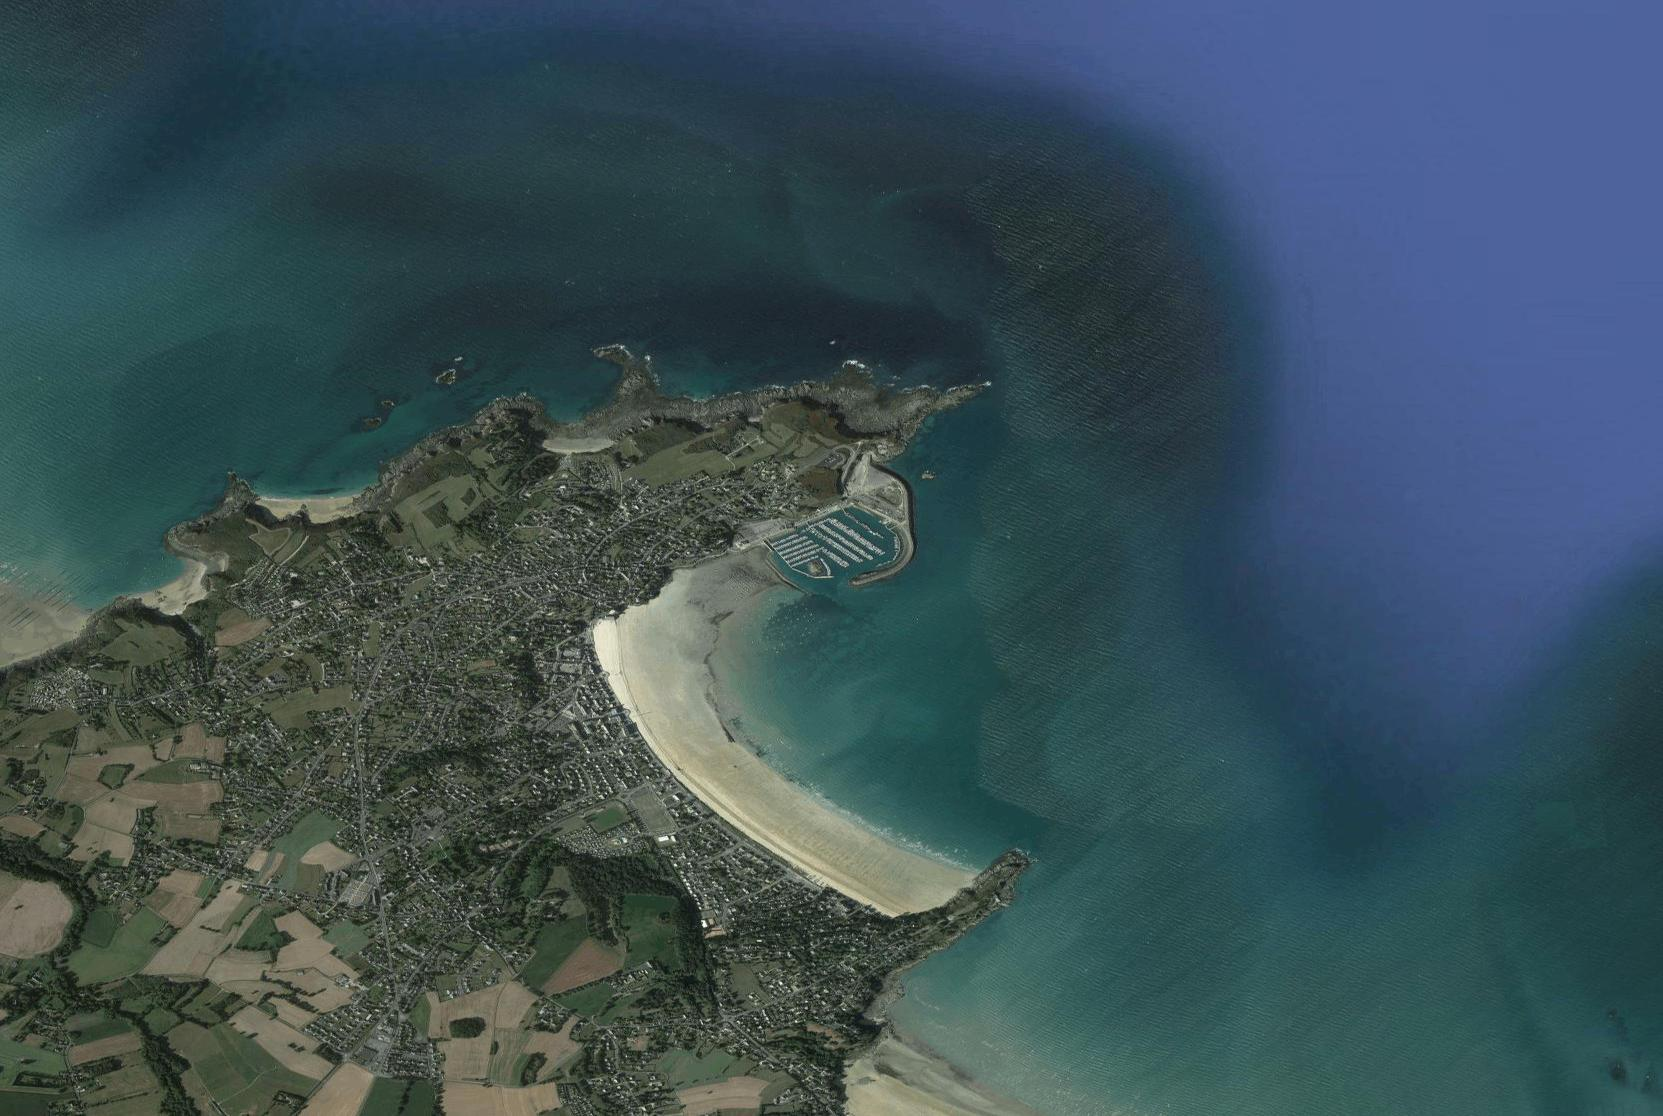harbor: (769, 496, 912, 589)
